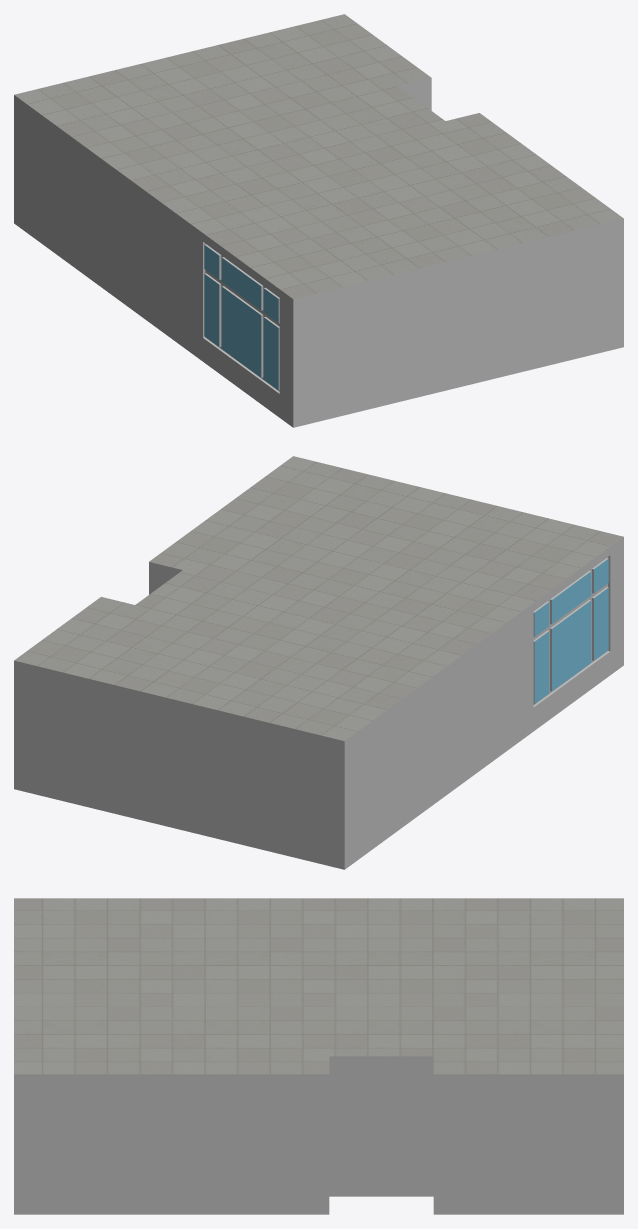
The model's file is Labo_para_mapear.fbx.
The picture shows the model from 3 angles, top to bottom: view 1: azimuth 30°, elevation 25°; view 2: azimuth 150°, elevation 25°; view 3: azimuth 270°, elevation 25°; orthographic projection. The views are drawn at different scales.
Parts seen in each view (by area): view 1: Techo, Paredes, Ventana; view 2: Techo, Paredes, Ventana; view 3: Techo, Paredes.
Part boxes in pixels (box(x1,y1,x2,y2)): Techo: box(14, 14, 623, 298); Paredes: box(14, 78, 623, 427); Ventana: box(203, 242, 279, 393); Techo: box(14, 456, 623, 740); Paredes: box(14, 537, 623, 869); Ventana: box(533, 555, 610, 707); Techo: box(14, 898, 623, 1074); Paredes: box(14, 1056, 623, 1214).
Bounding box in the file's own units: 1605 × 597 × 2348.
